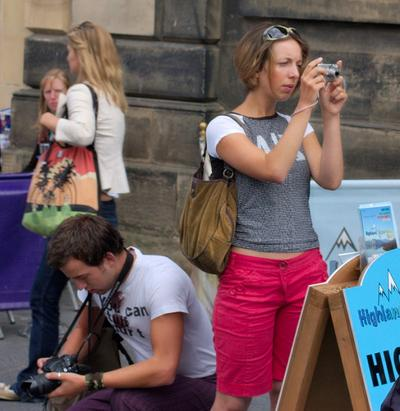person: (206, 21, 346, 409)
